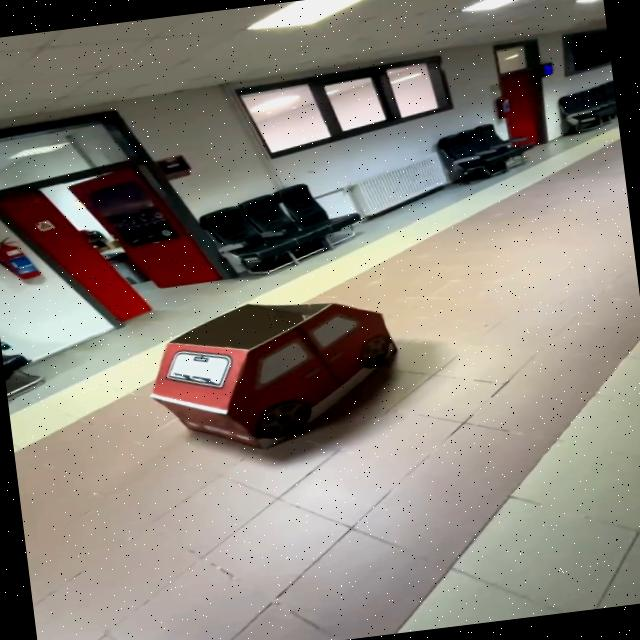red_car: (142, 278, 431, 472)
